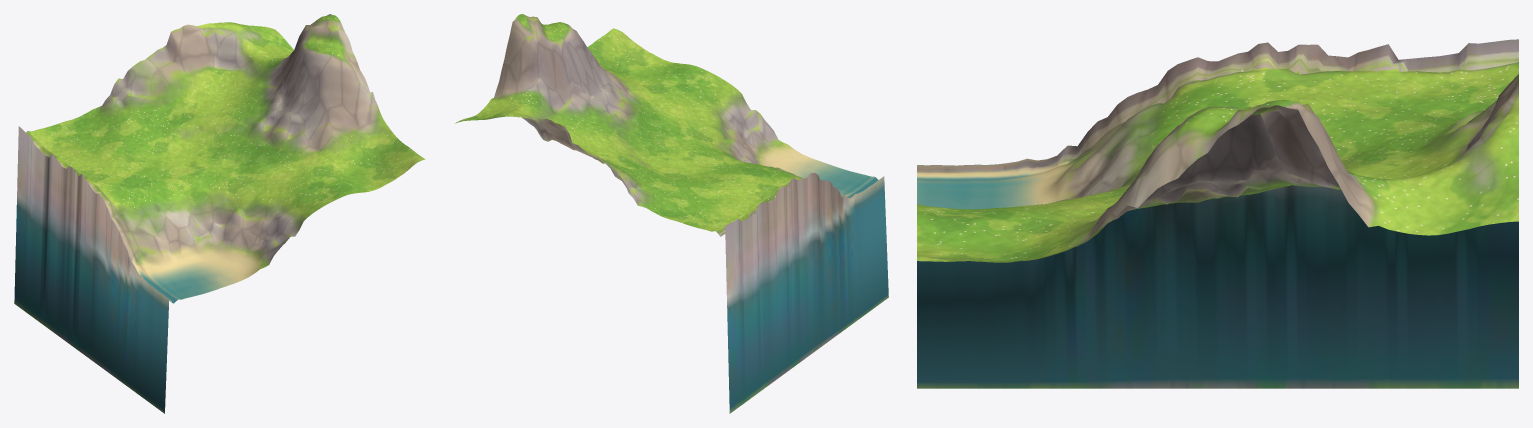
The picture shows the model from 3 angles, left to right: view 1: azimuth 30°, elevation 25°; view 2: azimuth 150°, elevation 25°; view 3: azimuth 270°, elevation 25°; orthographic projection. The views are drawn at different scales.
Visible parts, largest first — view 1: t000_064; view 2: t000_064; view 3: t000_064.
Boxes of the visible parts, left/top/right/bottom form: t000_064: left=14, top=14, right=425, bottom=413; t000_064: left=455, top=14, right=888, bottom=413; t000_064: left=917, top=39, right=1518, bottom=388.
Size of the model in its own units: 64 by 63.09 by 64.
1 material, 1 textured.
